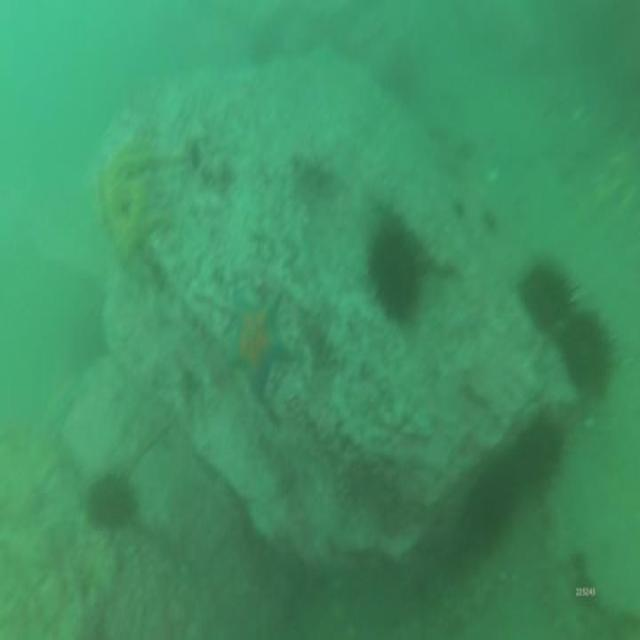echinus: (368, 224, 420, 314), (564, 309, 608, 396), (518, 422, 563, 487), (524, 259, 568, 316), (483, 455, 518, 526), (87, 482, 138, 529)
starfish: (223, 294, 293, 398)
